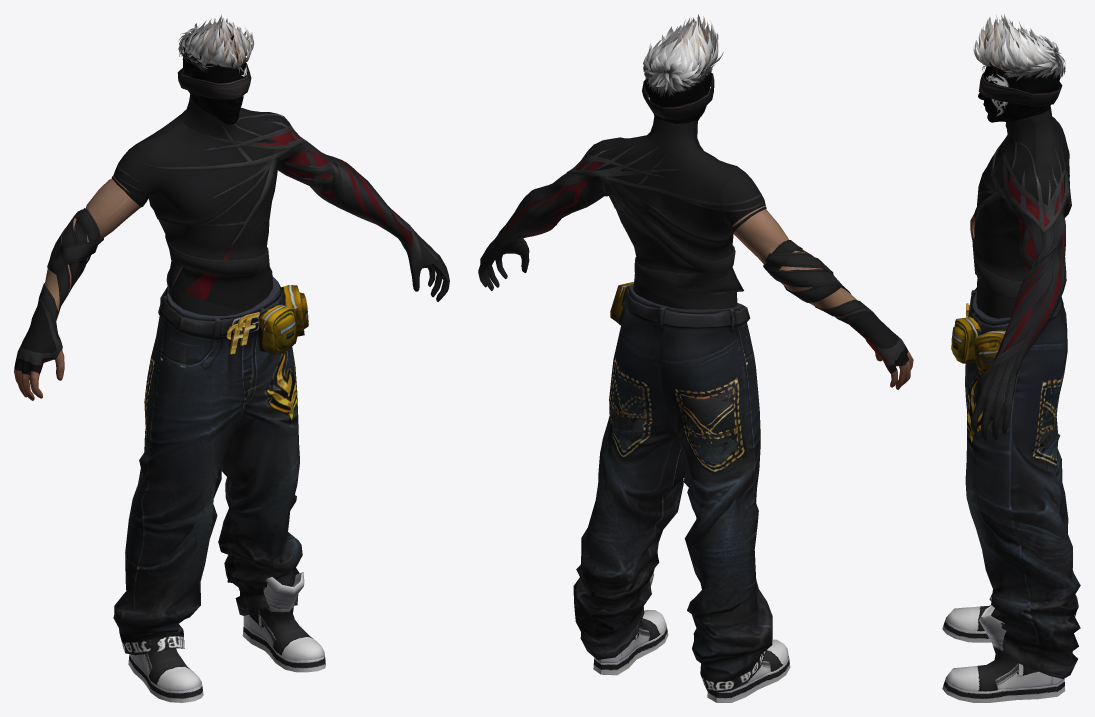
Rendered from blast.glb.
3 views of the same model, side by side, from view 1: azimuth 30°, elevation 25°; view 2: azimuth 150°, elevation 25°; view 3: azimuth 270°, elevation 25° (orthographic).
Parts seen in each view (by area): view 1: blast 2, blast 3, blast 7, blast 1, blast 4, blast 5, blast 6; view 2: blast 2, blast 3, blast 4, blast 7, blast 1, blast 5, blast 6; view 3: blast 2, blast 3, blast 7, blast 4, blast 5, blast 6.
Boxes of the visible parts, x1=… form: blast 2: x1=113, y1=276, x2=308, y2=655; blast 3: x1=14, y1=95, x2=449, y2=375; blast 7: x1=128, y1=572, x2=325, y2=702; blast 1: x1=14, y1=175, x2=140, y2=400; blast 4: x1=178, y1=14, x2=254, y2=73; blast 5: x1=182, y1=29, x2=248, y2=124; blast 6: x1=177, y1=63, x2=251, y2=99; blast 2: x1=573, y1=282, x2=772, y2=692; blast 3: x1=478, y1=116, x2=908, y2=373; blast 4: x1=643, y1=14, x2=723, y2=97; blast 7: x1=593, y1=573, x2=790, y2=702; blast 1: x1=732, y1=205, x2=913, y2=389; blast 5: x1=644, y1=66, x2=712, y2=123; blast 6: x1=642, y1=73, x2=714, y2=119; blast 2: x1=951, y1=287, x2=1080, y2=678; blast 3: x1=970, y1=106, x2=1071, y2=440; blast 7: x1=942, y1=605, x2=1065, y2=702; blast 4: x1=973, y1=14, x2=1065, y2=80; blast 5: x1=978, y1=40, x2=1060, y2=122; blast 6: x1=978, y1=72, x2=1062, y2=106.
Size of the model in its own units: 0.6339 by 0.9274 by 0.1798.
7 materials, 7 textured.
